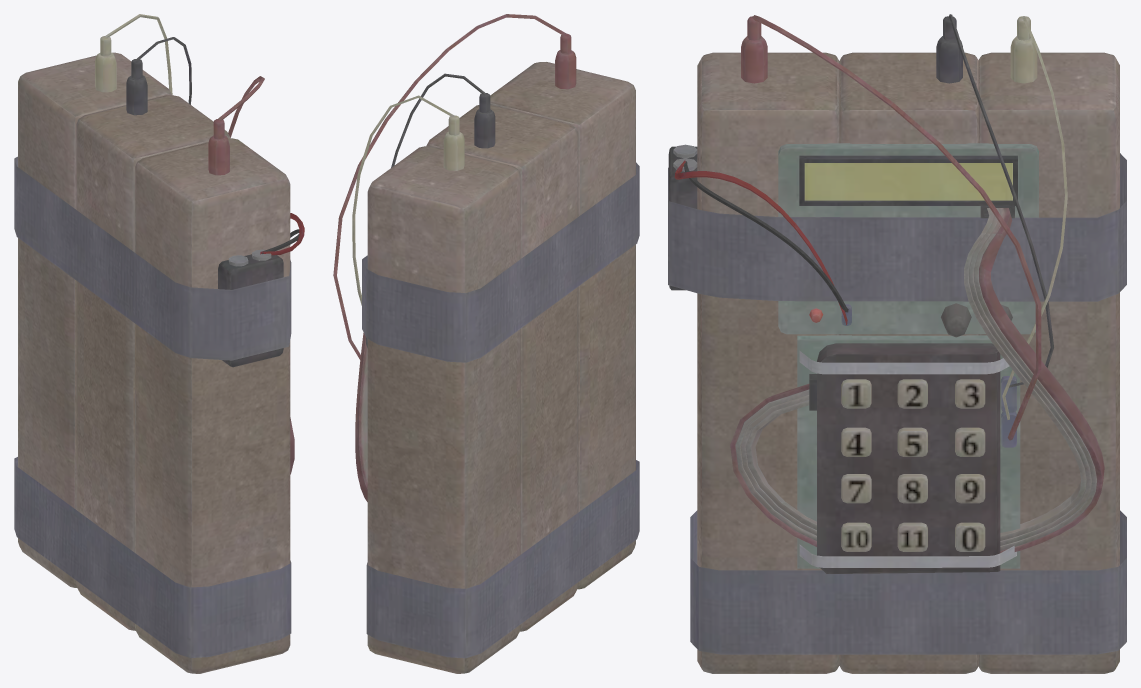
The model's file is c4.64678cbd73.glb.
The picture shows the model from 3 angles, left to right: view 1: azimuth 30°, elevation 25°; view 2: azimuth 150°, elevation 25°; view 3: azimuth 270°, elevation 25°; orthographic projection. The views are drawn at different scales.
Visible parts, largest first — view 1: c4; view 2: c4; view 3: c4.
Boxes of the visible parts, x1,y1,x2,y2 form: c4: [14, 14, 304, 673]; c4: [333, 14, 639, 673]; c4: [668, 14, 1126, 673].
Size of the model in its own units: 0.0681 by 0.2 by 0.1277.
Materials: 1 (1 with a texture image).
